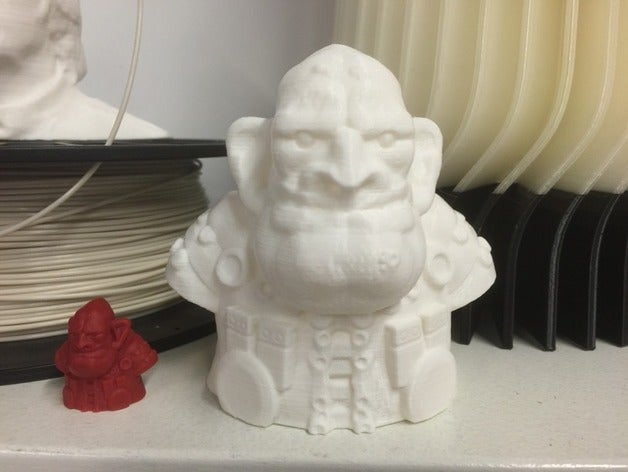Good: (144, 25, 527, 448)
